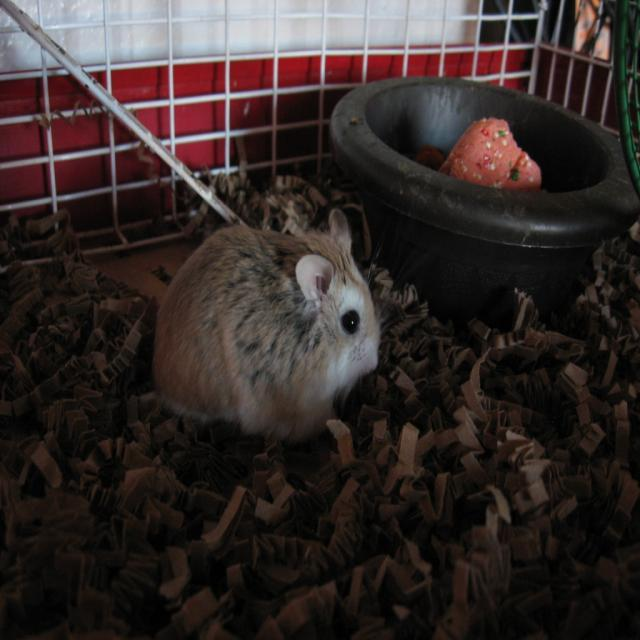rat: (148, 203, 384, 448)
